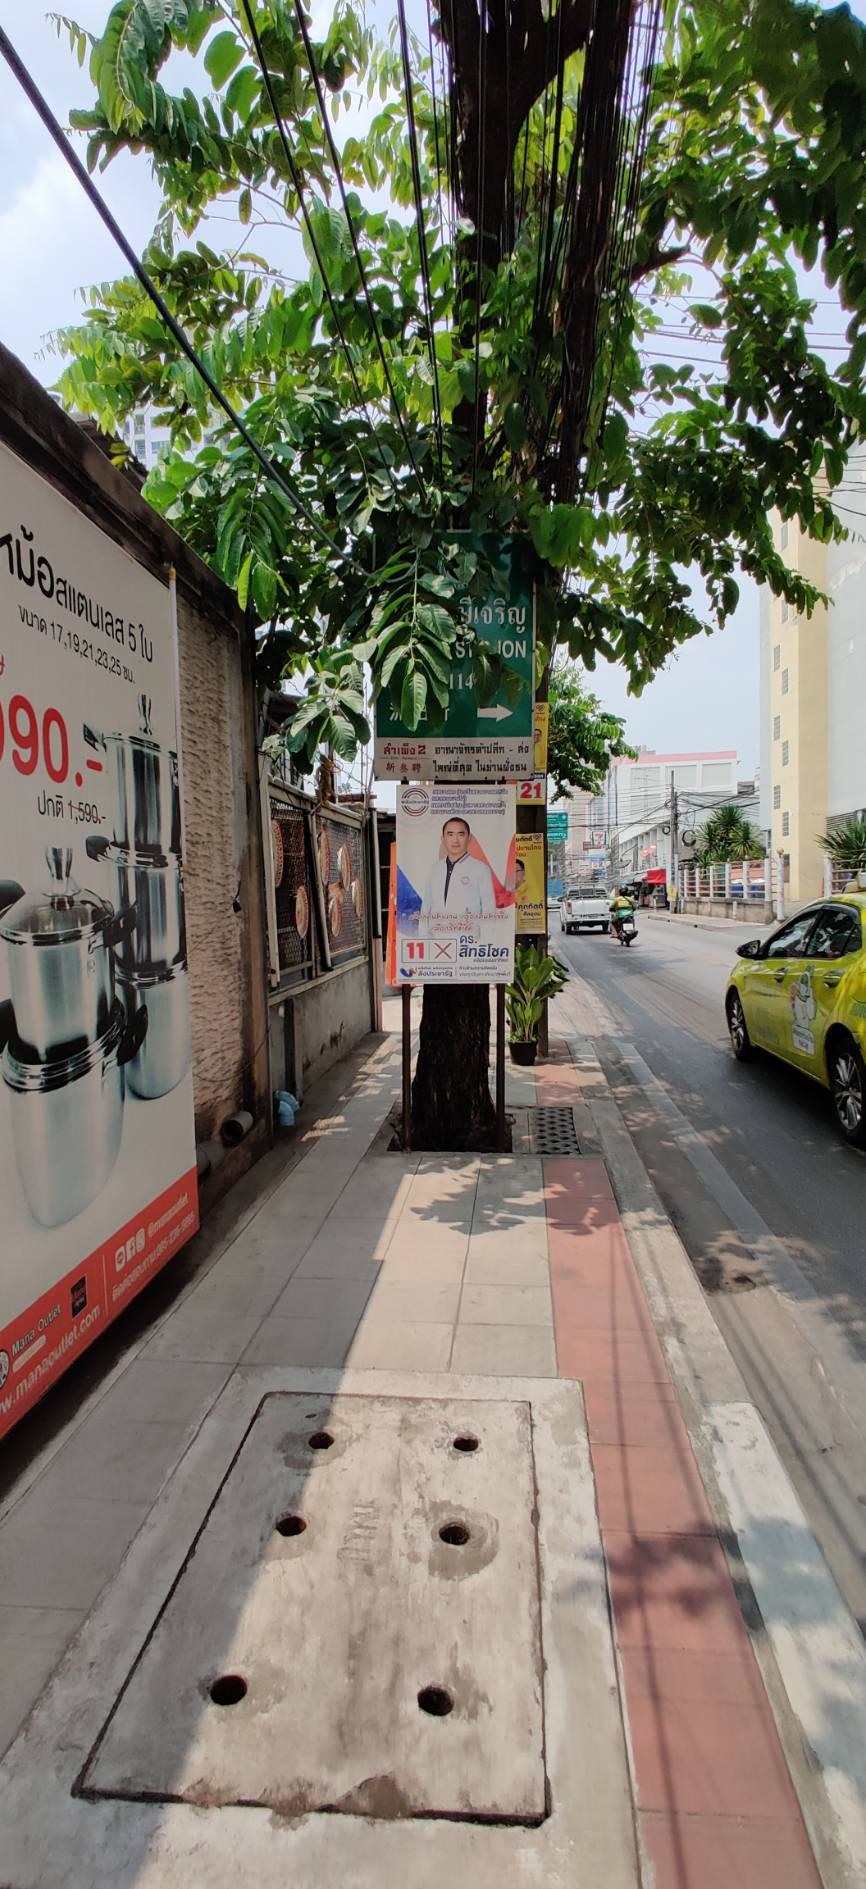Banner: (389, 789, 513, 990)
